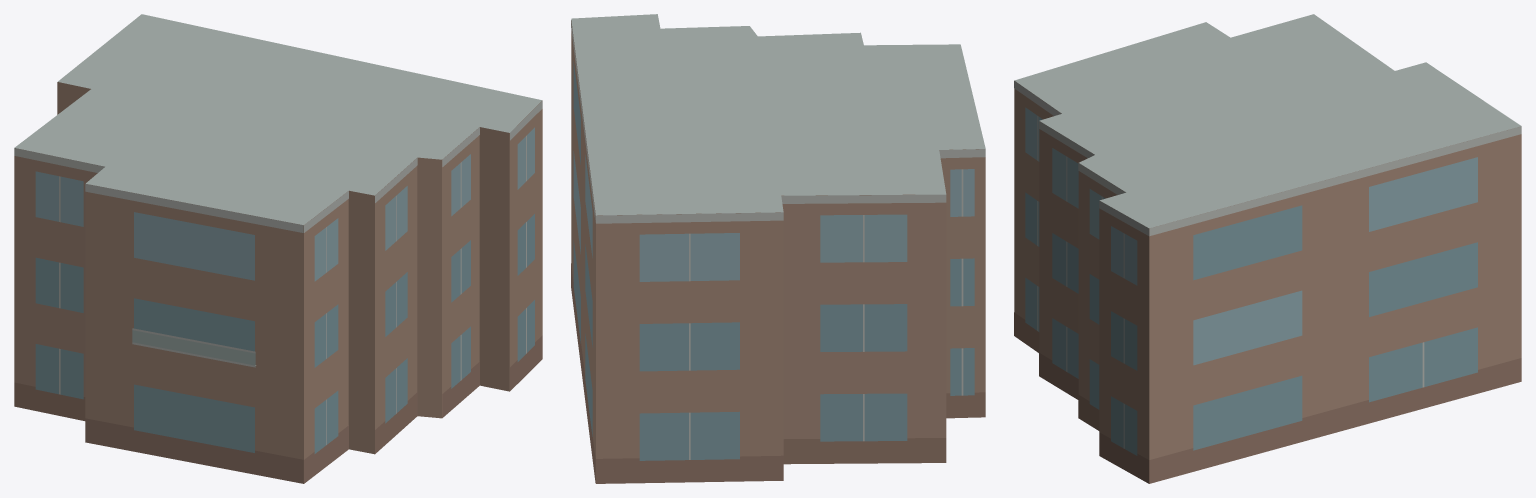
File: survey-upis-32944726.glb
3 renders of one model, left to right at view 1: azimuth 30°, elevation 25°; view 2: azimuth 150°, elevation 25°; view 3: azimuth 270°, elevation 25°, orthographic. The views are drawn at different scales.
Visible parts, largest first — view 1: survey-upis-32944726.tmp; view 2: survey-upis-32944726.tmp; view 3: survey-upis-32944726.tmp.
Part boxes in pixels (x1,y1,x2,y2): survey-upis-32944726.tmp: (14,14,542,483); survey-upis-32944726.tmp: (571,14,985,483); survey-upis-32944726.tmp: (1014,14,1521,483).
Bounding box in the file's own units: 14.23 × 7.9 × 14.23.
